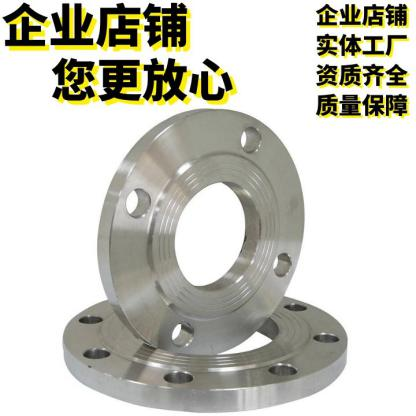FOD: (92, 103, 312, 355), (58, 290, 348, 416)
